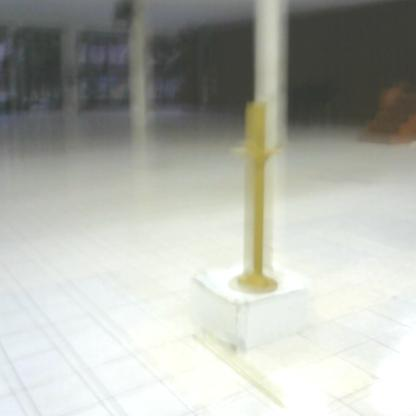pole: (217, 98, 295, 303)
